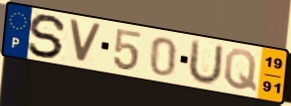0: (149, 36, 180, 78)
5: (111, 26, 144, 72)
Q: (223, 47, 259, 94)
S: (26, 13, 70, 60)
U: (185, 38, 226, 87)
V: (67, 17, 104, 66)
